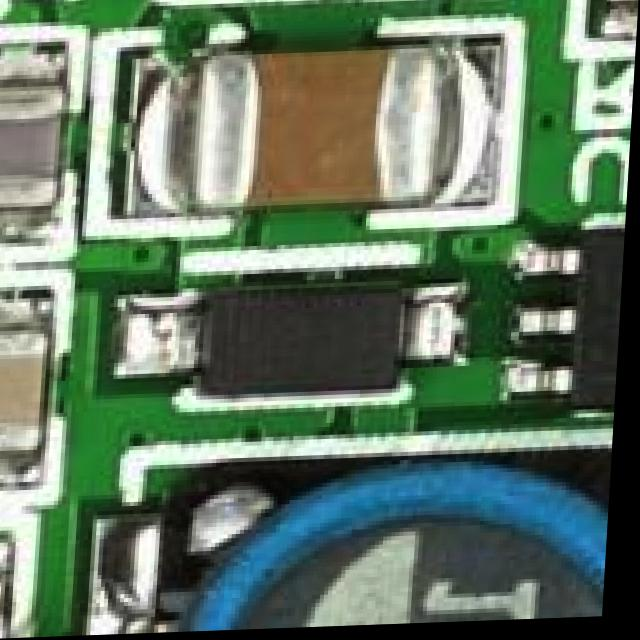IC: (528, 269, 627, 416), (0, 602, 36, 640)
capacitor: (161, 46, 475, 223), (0, 309, 73, 416), (0, 94, 56, 212)
diode: (185, 293, 438, 410)
inductor: (158, 469, 617, 635)
resistor: (607, 0, 640, 14)
